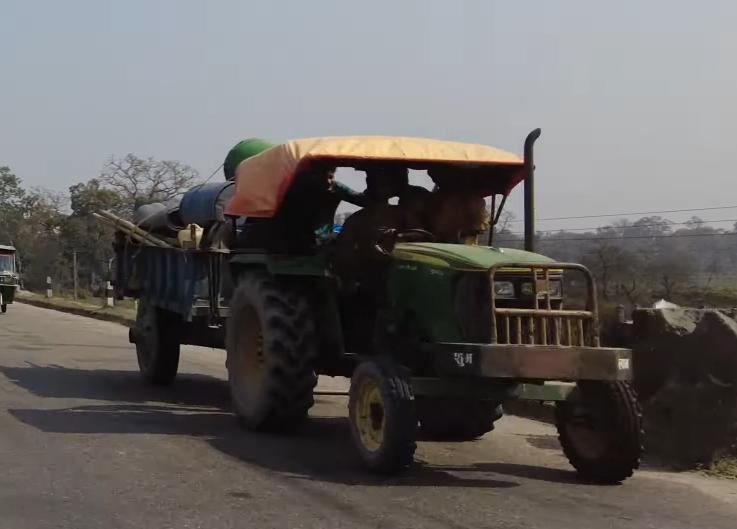e-rickshaw: (0, 239, 23, 329)
tractor: (211, 123, 662, 492)
